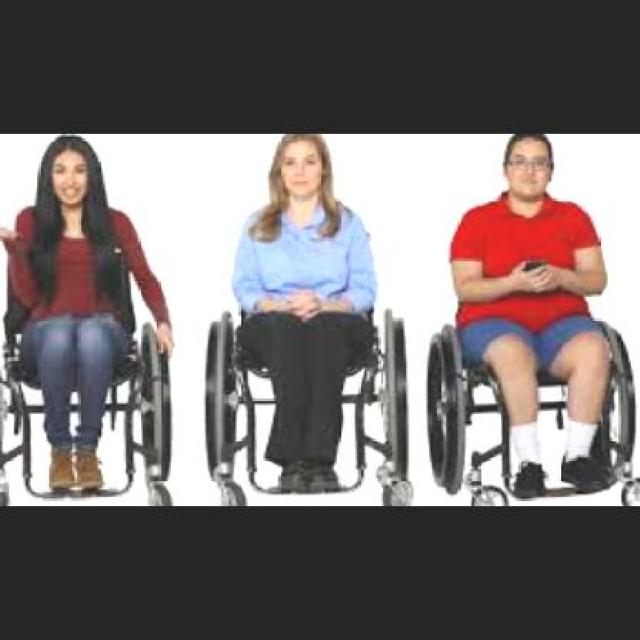wheelchairs: (424, 290, 634, 513), (207, 285, 412, 504), (8, 277, 178, 504)
